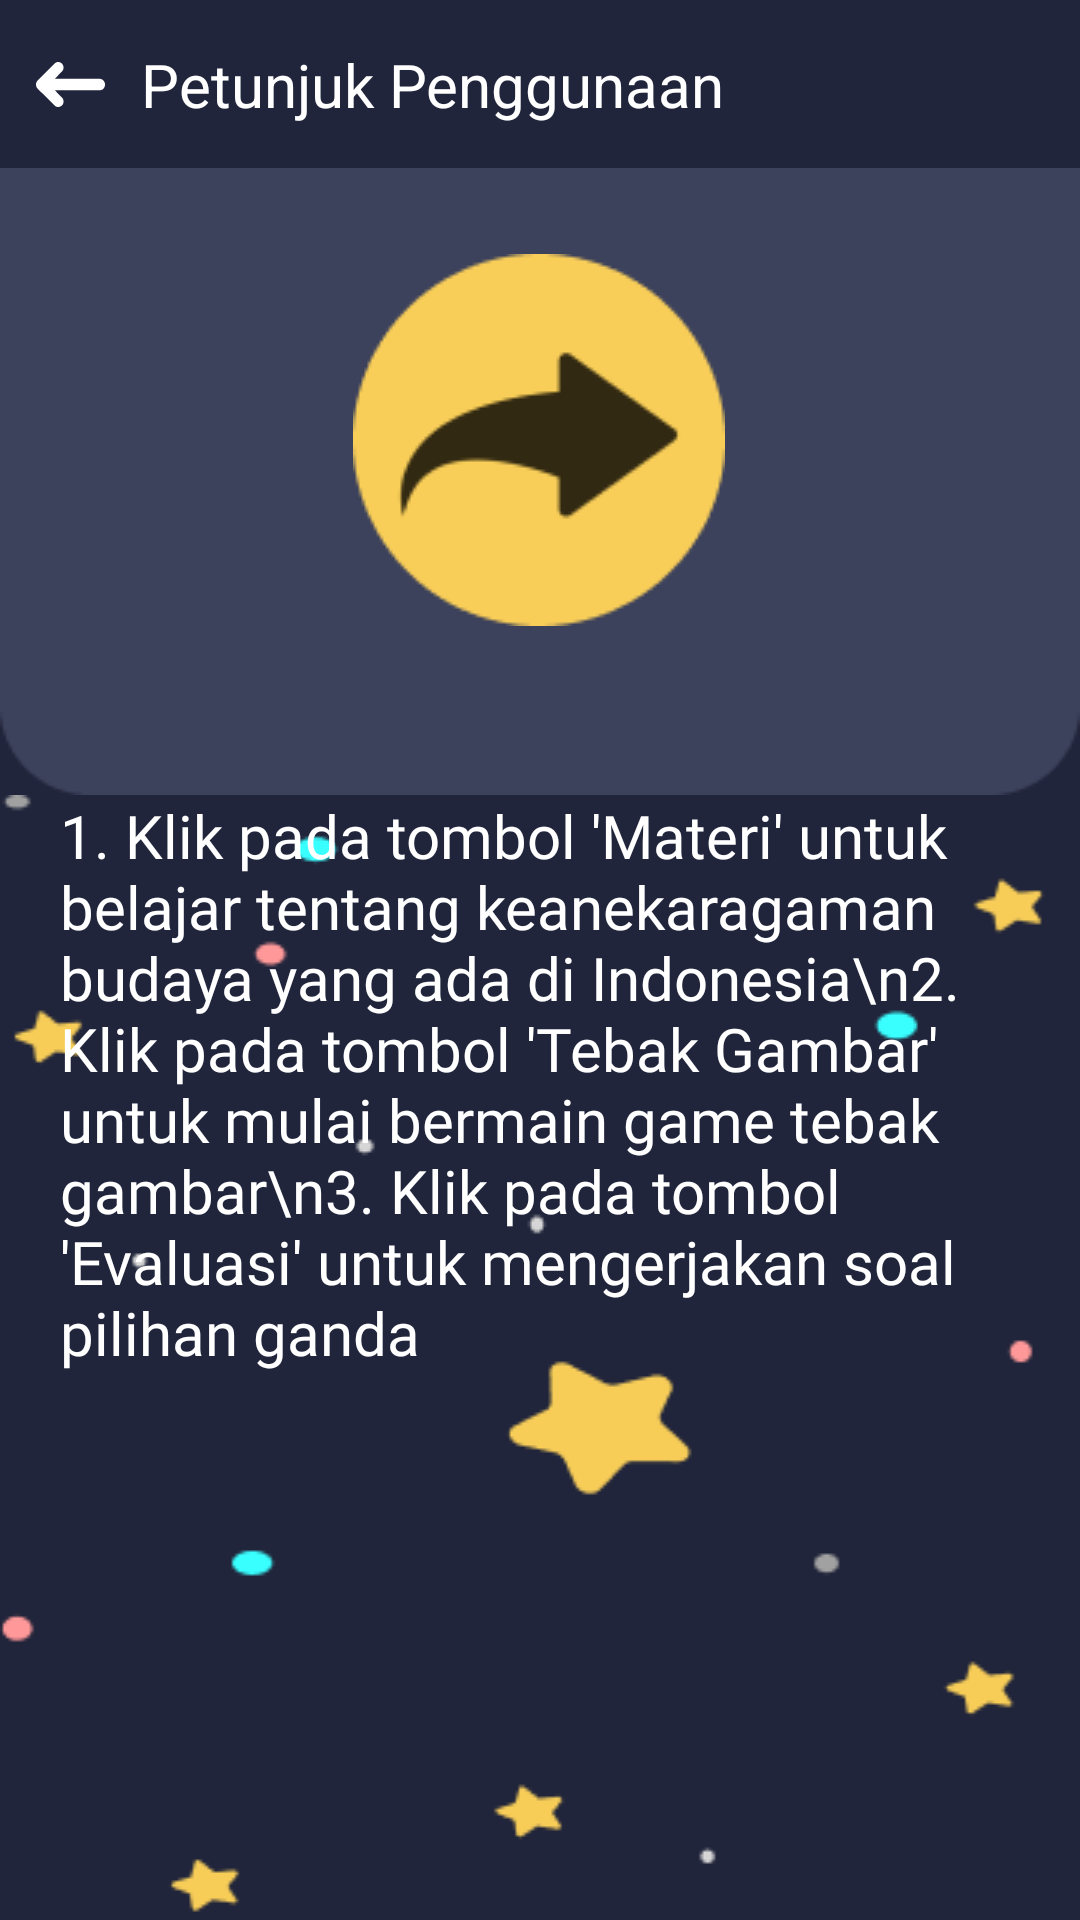

Icons on this 1080 x 1920 Android screen, each with its box as (x1, y1, x2, y2):
arrow left: (36, 62, 105, 107)
